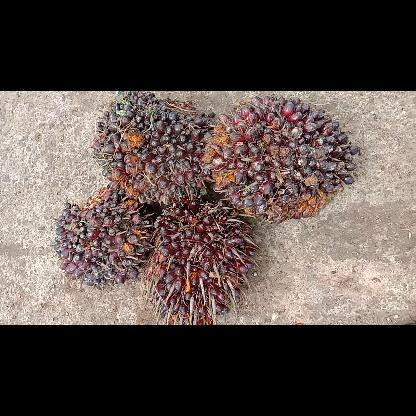Kurang masak: (200, 93, 362, 227), (86, 91, 218, 211), (144, 204, 258, 324), (50, 183, 156, 289)
